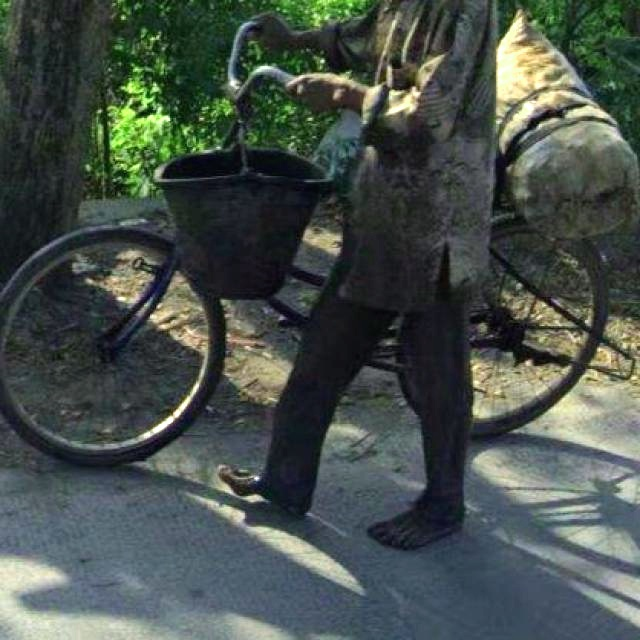bicycle: (20, 16, 612, 508)
